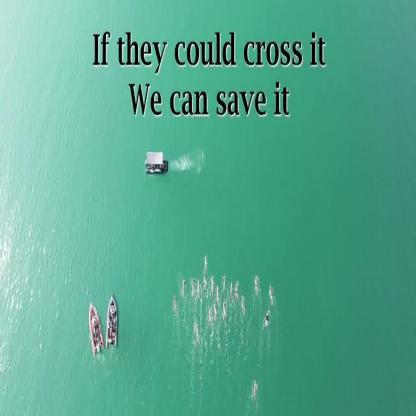Boat: (105, 297, 121, 348), (86, 304, 102, 354)
